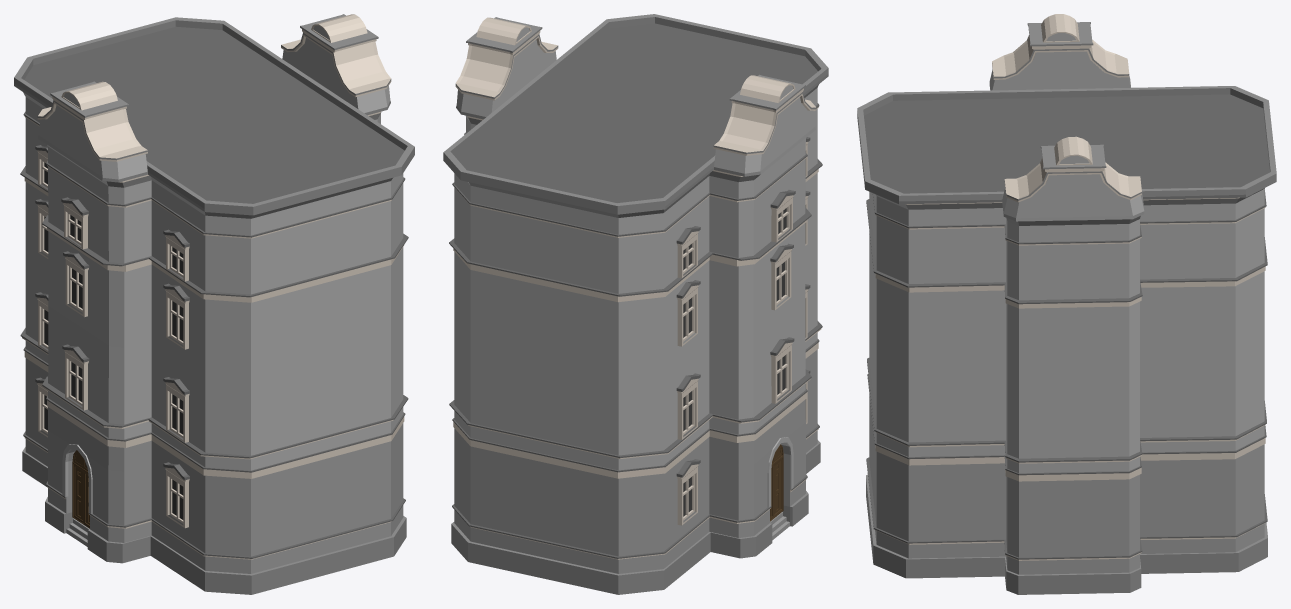
Rendered from building4_lev3.glb.
3 renders of one model, left to right at view 1: azimuth 30°, elevation 25°; view 2: azimuth 150°, elevation 25°; view 3: azimuth 270°, elevation 25°, orthographic. The views are drawn at different scales.
Parts seen in each view (by area): view 1: building4_lev3; view 2: building4_lev3; view 3: building4_lev3.
Part boxes in pixels (<box>): building4_lev3: <box>14,14,414,594</box>; building4_lev3: <box>443,14,828,594</box>; building4_lev3: <box>857,14,1276,594</box>.
Size of the model in its own units: 11.25 by 15.89 by 13.69.
